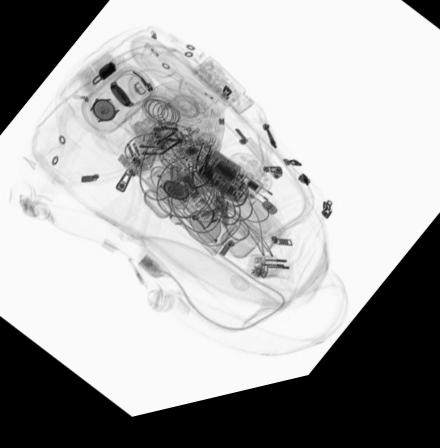Lighter: (241, 148, 284, 191)
